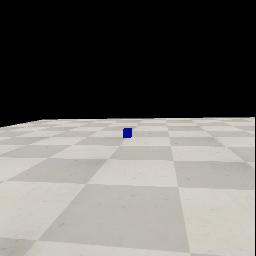box: (123, 128, 132, 138)
